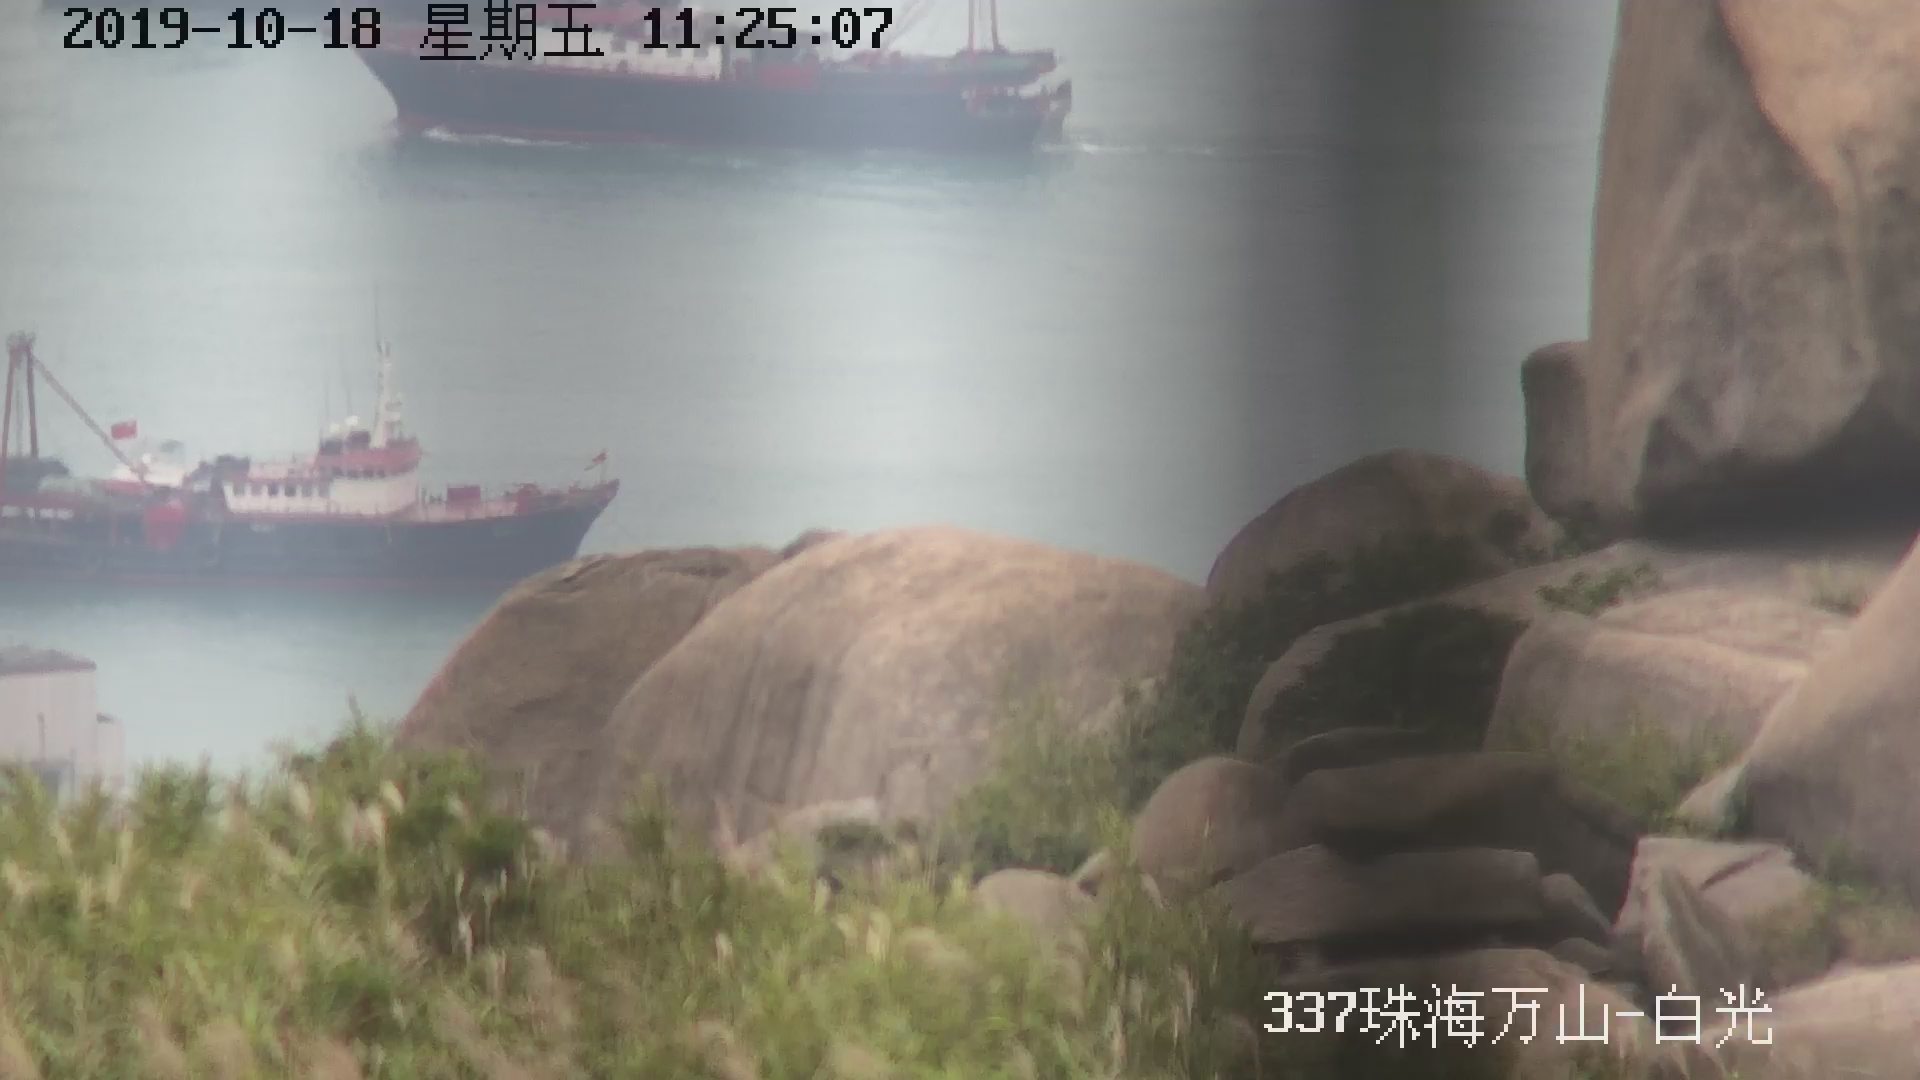ship: (1, 307, 611, 593), (342, 8, 1081, 160)
